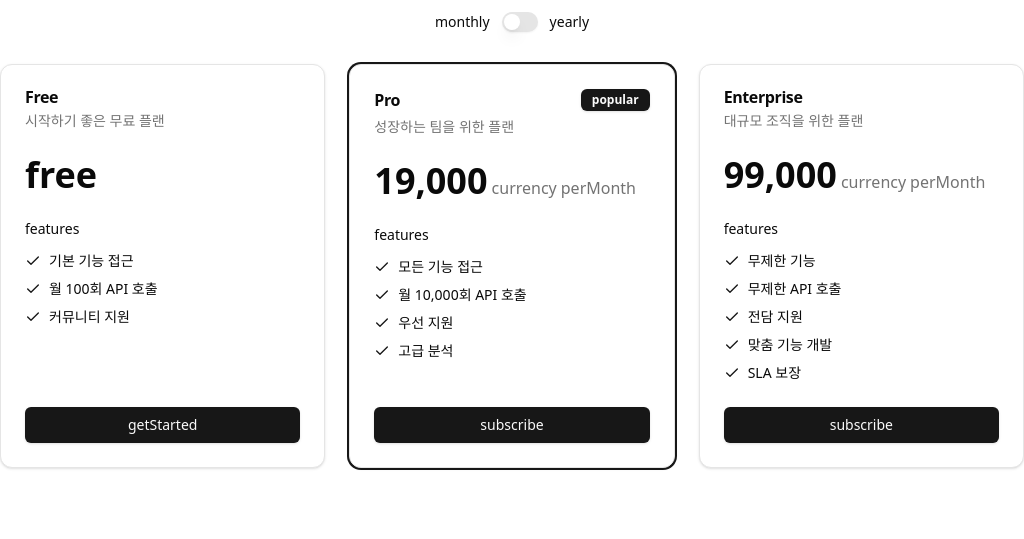
Test case: PricingTable › switches to yearly prices when toggle is clicked
The width and height of the screenshot is (1024, 539).
Note: Click the yearly toggle (Switch component renders as a button)
Click the switch at [520, 22], box [502,12,538,32]
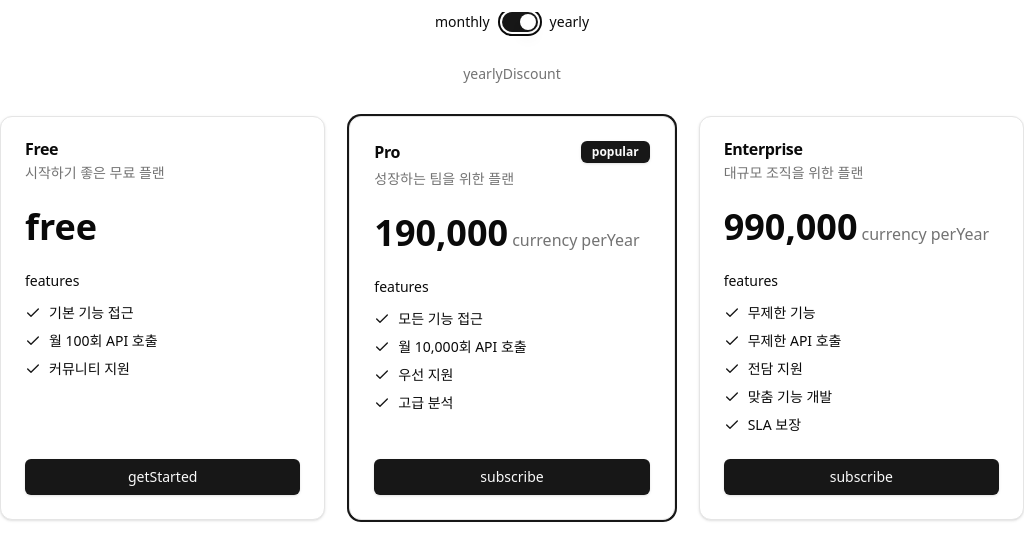
Expected: the text "190,000" is shown, [374,213,508,253]
Expected: the text "990,000" is shown, [724,207,858,247]
